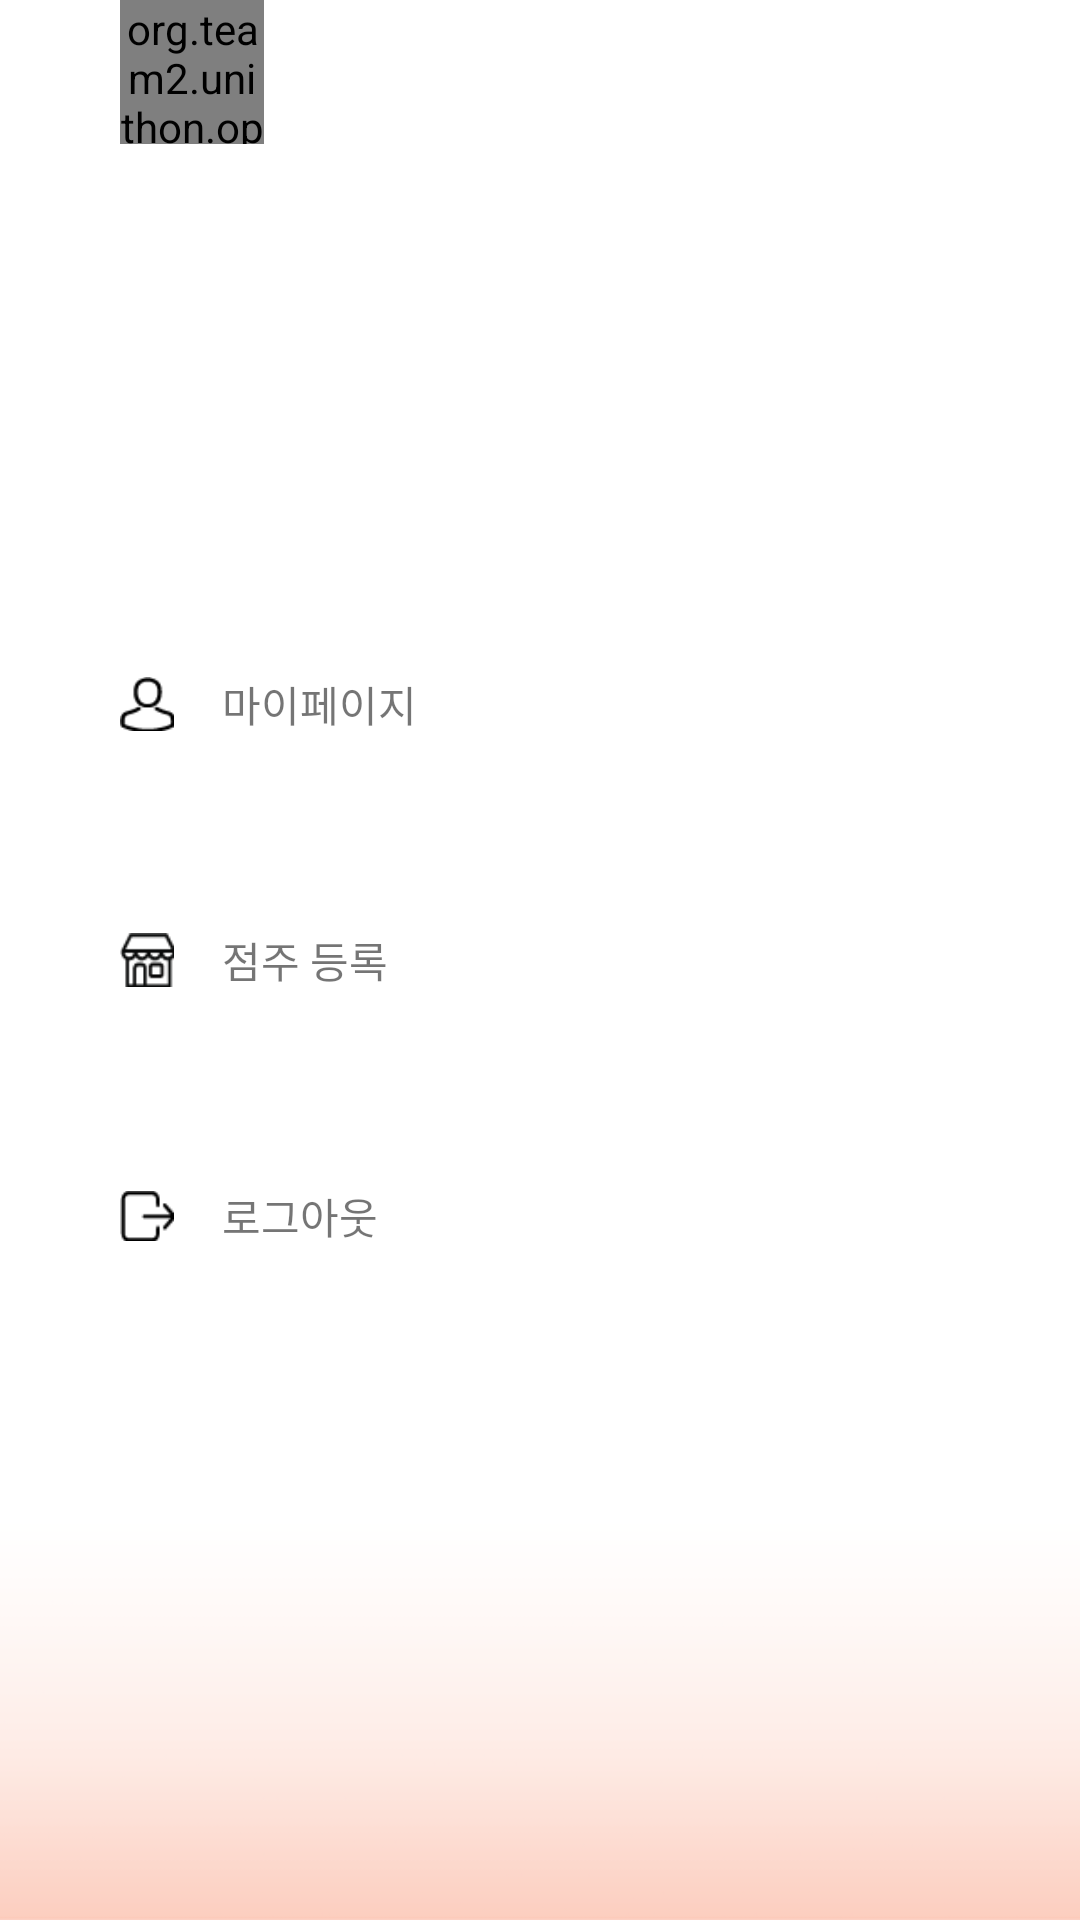

Icons on this 1080*1920 Android screen, each with the point to tap as point (x, y):
people: point (147, 704)
shop: point (147, 960)
